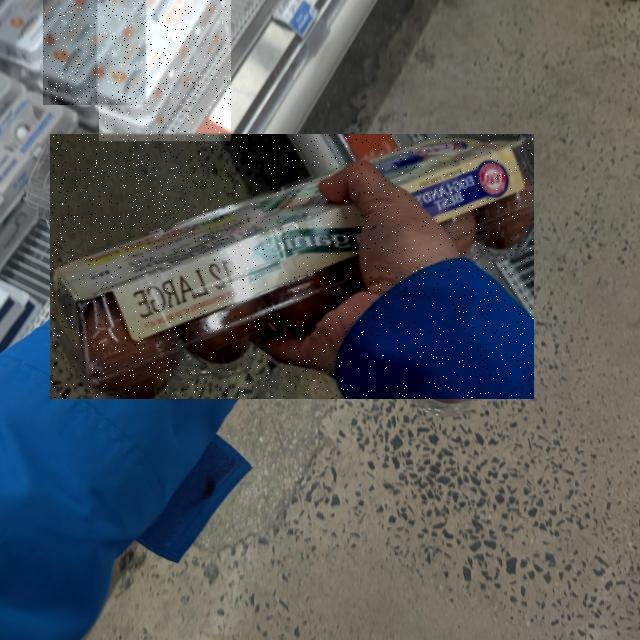Juice: (50, 134, 534, 399), (99, 0, 231, 141), (44, 0, 146, 105)
